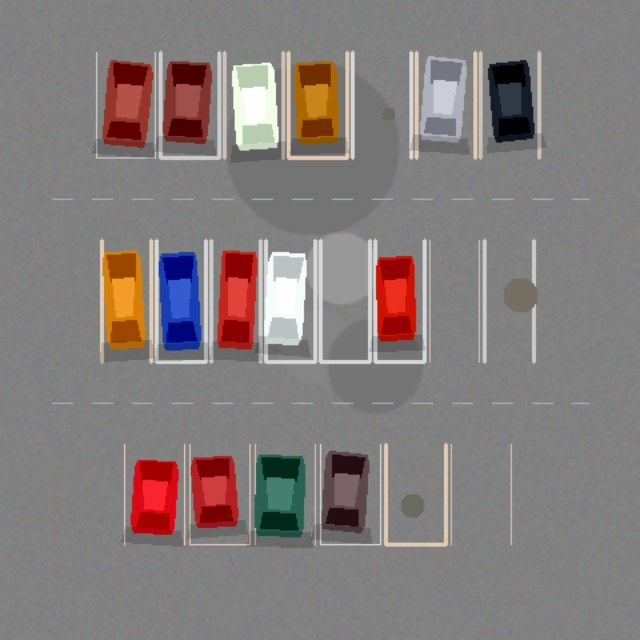space-empty: (352, 52, 411, 157), (429, 240, 479, 361), (385, 444, 445, 544), (451, 444, 511, 544), (320, 240, 369, 361), (484, 240, 533, 361)
space-occupied: (96, 52, 155, 157), (160, 52, 219, 157), (224, 52, 283, 157), (288, 52, 347, 157), (416, 52, 475, 157), (480, 52, 539, 157), (101, 240, 151, 361), (265, 240, 315, 361), (124, 444, 184, 544), (189, 444, 249, 544), (255, 444, 315, 544), (320, 444, 380, 544), (156, 240, 205, 361), (211, 240, 260, 361), (375, 240, 424, 361)
